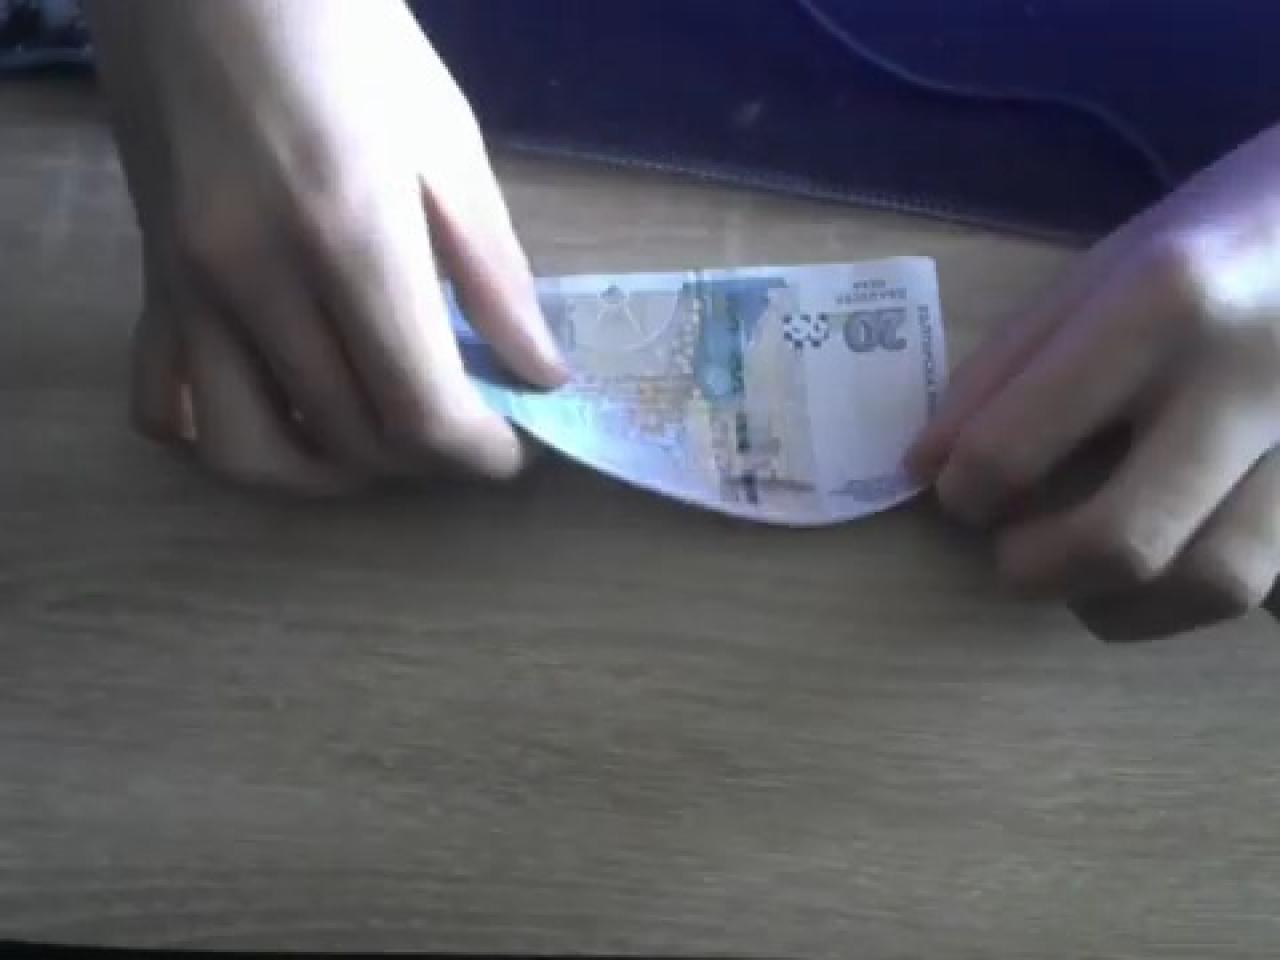20leva: (445, 250, 951, 530)
